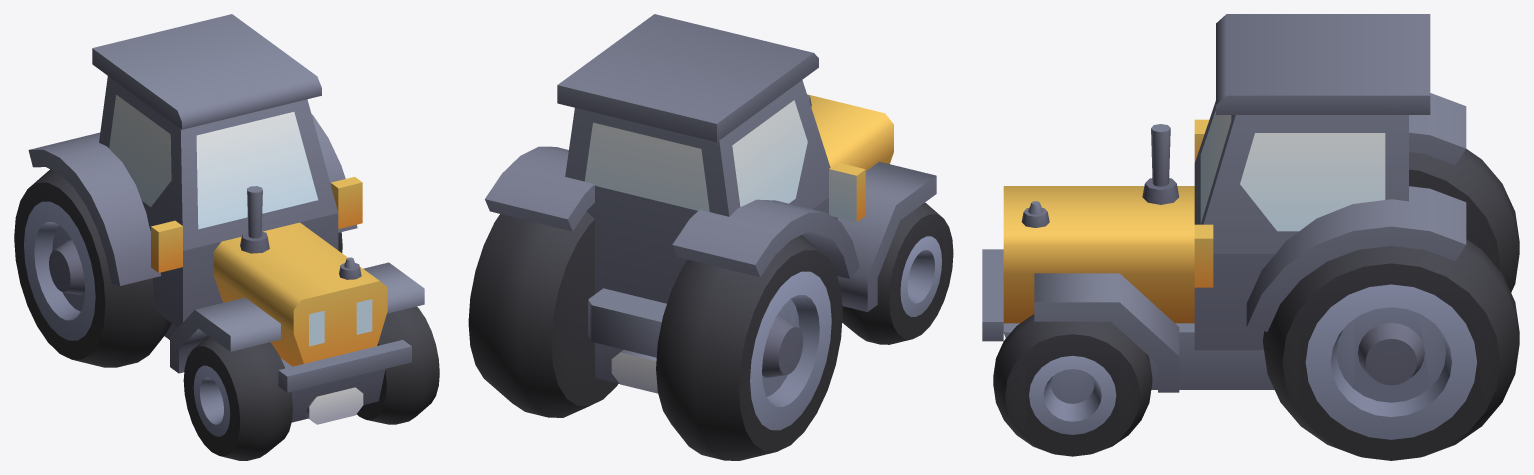
File: tractor.fbx
The picture shows the model from 3 angles, left to right: view 1: azimuth 30°, elevation 25°; view 2: azimuth 150°, elevation 25°; view 3: azimuth 270°, elevation 25°; orthographic projection. The views are drawn at different scales.
Visible parts, largest first — view 1: body, wheel-back-right, wheel-front-right, wheel-front-left; view 2: body, wheel-back-right, wheel-back-left, wheel-front-right; view 3: body, wheel-back-left, wheel-front-left, wheel-back-right.
Boxes of the visible parts, left/top/right/bottom form: body: left=28, top=14, right=424, bottom=424; wheel-back-right: left=14, top=169, right=171, bottom=367; wheel-front-right: left=183, top=336, right=292, bottom=460; wheel-front-left: left=356, top=306, right=439, bottom=424; body: left=485, top=14, right=936, bottom=393; wheel-back-right: left=656, top=235, right=842, bottom=460; wheel-back-left: left=468, top=211, right=618, bottom=417; wheel-front-right: left=842, top=202, right=953, bottom=344; body: left=982, top=14, right=1466, bottom=392; wheel-back-left: left=1263, top=239, right=1519, bottom=460; wheel-front-left: left=993, top=314, right=1152, bottom=456; wheel-back-right: left=1409, top=149, right=1519, bottom=292.
Bounding box in the file's own units: 134 × 160 × 220.
1 material, 1 textured.
